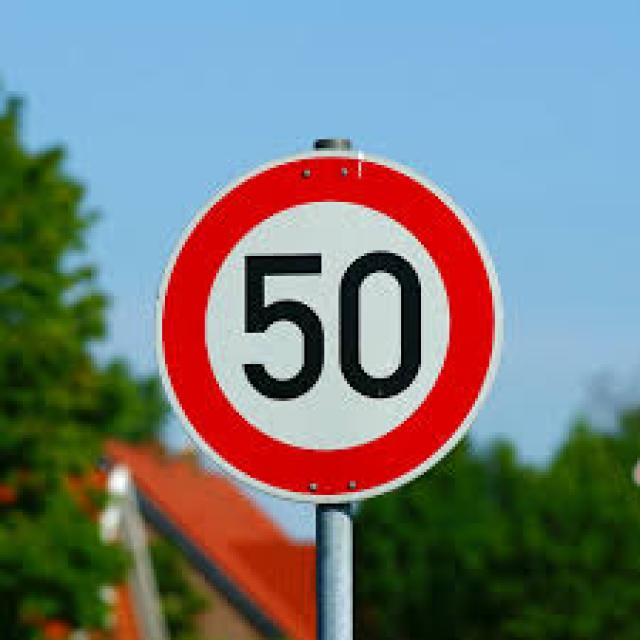Speed limit 50: (152, 144, 504, 508)
